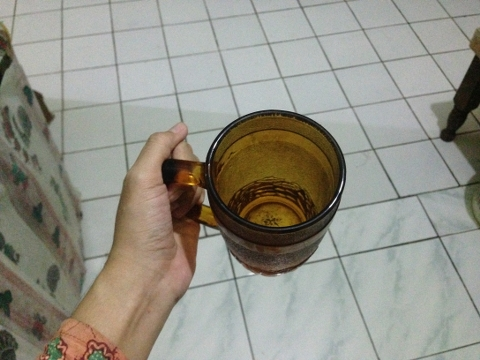tempat minum: (162, 109, 346, 277)
